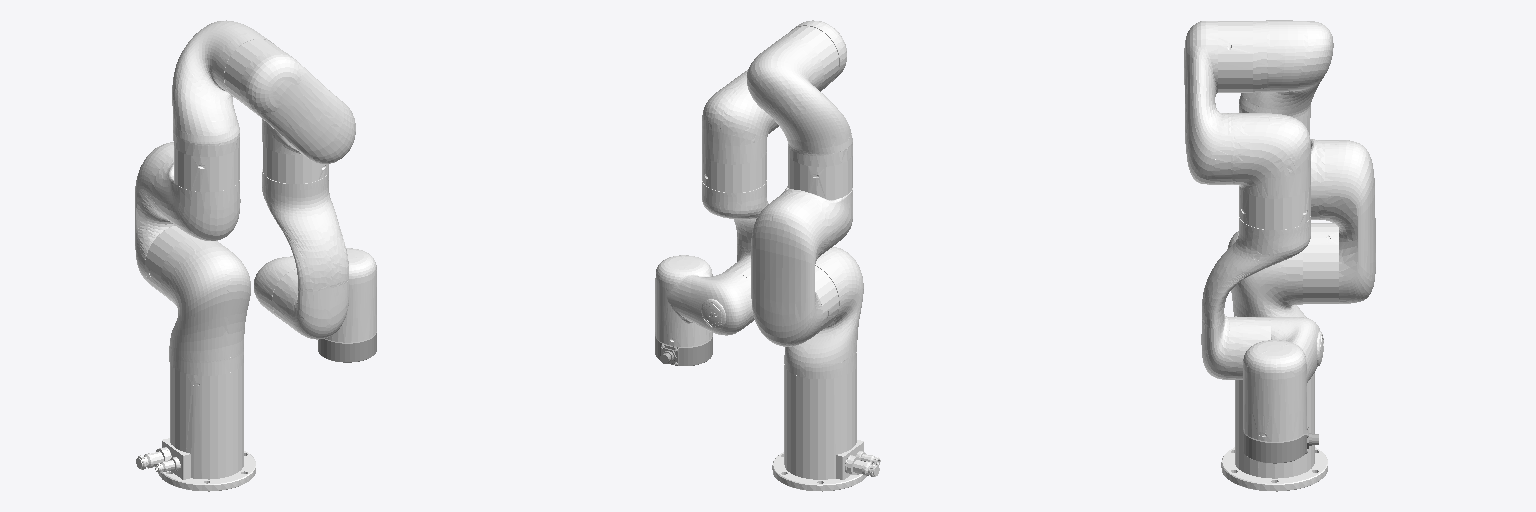
URDF robot description (UF_ROBOT):
<?xml version="1.0" ?>
<!-- =================================================================================== -->
<!-- |    This document was autogenerated by xacro from xarm_device.urdf.xacro         | -->
<!-- |    EDITING THIS FILE BY HAND IS NOT RECOMMENDED                                 | -->
<!-- =================================================================================== -->
<robot name="UF_ROBOT" xmlns:xacro="http://ros.org/wiki/xacro">
  <!-- Insert at the beginning of xarm_device_macro.xacro -->
  <material name="Black">
    <color rgba="0.0 0.0 0.0 1.0"/>
  </material>
  <material name="Red">
    <color rgba="0.8 0.0 0.0 1.0"/>
  </material>
  <material name="White">
    <color rgba="1.0 1.0 1.0 1.0"/>
  </material>
  <material name="Silver">
    <color rgba="0.753 0.753 0.753 1.0"/>
  </material>
  <link name="world"/>
  <joint name="world_joint" type="fixed">
    <parent link="world"/>
    <child link="link_base"/>
    <origin rpy="0 0 0" xyz="0 0 0"/>
  </joint>
  <link name="link_base">
    <inertial>
      <origin rpy="0 0 0" xyz="-0.021131 -0.0016302 0.056488"/>
      <mass value="0.88556"/>
      <inertia ixx="0.0030595" ixy="0.00012259" ixz="-0.00062705" iyy="0.0037783" iyz="0.00027023" izz="0.0020125"/>
    </inertial>
    <visual>
      <geometry>
        <mesh filename="xarm_description/meshes/xarm7/visual/link_base.stl"/>
      </geometry>
      <origin rpy="0 0 0" xyz="0 0 0"/>
      <material name="White"/>
    </visual>
    <collision>
      <geometry>
        <mesh filename="xarm_description/meshes/xarm7/collision/link_base.obj"/>
      </geometry>
      <origin rpy="0 0 0" xyz="0 0 0"/>
    </collision>
  </link>
  <link name="link1">
    <inertial>
      <origin rpy="0 0 0" xyz="-0.0002 0.02905 -0.01233"/>
      <mass value="2.382"/>
      <inertia ixx="0.0056905" ixy="-1.579e-05" ixz="5.125e-06" iyy="0.0049566" iyz="-0.000873378" izz="0.003316654"/>
    </inertial>
    <visual>
      <geometry>
        <mesh filename="xarm_description/meshes/xarm7/visual/link1.stl"/>
      </geometry>
      <origin rpy="0 0 0" xyz="0 0 0"/>
      <material name="White"/>
    </visual>
    <collision>
      <geometry>
        <mesh filename="xarm_description/meshes/xarm7/collision/link1.obj"/>
      </geometry>
      <origin rpy="0 0 0" xyz="0 0 0"/>
    </collision>
  </link>
  <joint name="joint1" type="revolute">
    <origin rpy="0 0 0" xyz="0 0 0.267"/>
    <parent link="link_base"/>
    <child link="link1"/>
    <axis xyz="0 0 1"/>
    <limit effort="50" lower="-6.28318530718" upper="6.28318530718" velocity="3.14"/>
    <dynamics damping="10" friction="1"/>
  </joint>
  <link name="link2">
    <inertial>
      <origin rpy="0 0 0" xyz="0.00022 -0.12856 0.01735"/>
      <mass value="1.869"/>
      <inertia ixx="0.0095989" ixy="1.541e-06" ixz="5.56e-06" iyy="0.00382472" iyz="-0.00317156" izz="0.007565669"/>
    </inertial>
    <visual>
      <geometry>
        <mesh filename="xarm_description/meshes/xarm7/visual/link2.stl"/>
      </geometry>
      <origin rpy="0 0 0" xyz="0 0 0"/>
      <material name="White"/>
    </visual>
    <collision>
      <geometry>
        <mesh filename="xarm_description/meshes/xarm7/collision/link2.obj"/>
      </geometry>
      <origin rpy="0 0 0" xyz="0 0 0"/>
    </collision>
  </link>
  <joint name="joint2" type="revolute">
    <origin rpy="-1.5708 0 0" xyz="0 0 0"/>
    <parent link="link1"/>
    <child link="link2"/>
    <axis xyz="0 0 1"/>
    <limit effort="50" lower="-2.059" upper="2.0944" velocity="3.14"/>
    <dynamics damping="10" friction="1"/>
  </joint>
  <link name="link3">
    <inertial>
      <origin rpy="0 0 0" xyz="0.0466 -0.02463 -0.00768"/>
      <mass value="1.6383"/>
      <inertia ixx="0.00310955" ixy="0.00030837" ixz="-0.00058453" iyy="0.00264483" iyz="0.000338893" izz="0.0026624"/>
    </inertial>
    <visual>
      <geometry>
        <mesh filename="xarm_description/meshes/xarm7/visual/link3.stl"/>
      </geometry>
      <origin rpy="0 0 0" xyz="0 0 0"/>
      <material name="White"/>
    </visual>
    <collision>
      <geometry>
        <mesh filename="xarm_description/meshes/xarm7/collision/link3.obj"/>
      </geometry>
      <origin rpy="0 0 0" xyz="0 0 0"/>
    </collision>
  </link>
  <joint name="joint3" type="revolute">
    <origin rpy="1.5708 0 0" xyz="0 -0.293 0"/>
    <parent link="link2"/>
    <child link="link3"/>
    <axis xyz="0 0 1"/>
    <limit effort="30" lower="-6.28318530718" upper="6.28318530718" velocity="3.14"/>
    <dynamics damping="5" friction="1"/>
  </joint>
  <link name="link4">
    <inertial>
      <origin rpy="0 0 0" xyz="0.07047 -0.11575 0.012"/>
      <mass value="1.7269"/>
      <inertia ixx="0.005889" ixy="0.00137112" ixz="0.00088143" iyy="0.00359703" iyz="-0.001762155" izz="0.00543244"/>
    </inertial>
    <visual>
      <geometry>
        <mesh filename="xarm_description/meshes/xarm7/visual/link4.stl"/>
      </geometry>
      <origin rpy="0 0 0" xyz="0 0 0"/>
      <material name="White"/>
    </visual>
    <collision>
      <geometry>
        <mesh filename="xarm_description/meshes/xarm7/collision/link4.obj"/>
      </geometry>
      <origin rpy="0 0 0" xyz="0 0 0"/>
    </collision>
  </link>
  <joint name="joint4" type="revolute">
    <origin rpy="1.5708 0 0" xyz="0.0525 0 0"/>
    <parent link="link3"/>
    <child link="link4"/>
    <axis xyz="0 0 1"/>
    <limit effort="30" lower="-0.19198" upper="3.927" velocity="3.14"/>
    <dynamics damping="5" friction="1"/>
  </joint>
  <link name="link5">
    <inertial>
      <origin rpy="0 0 0" xyz="-0.00032 0.01604 -0.026"/>
      <mass value="1.3203"/>
      <inertia ixx="0.00534665" ixy="1.5117e-05" ixz="-3.69e-07" iyy="0.0049779" iyz="-0.00022132" izz="0.0013624"/>
    </inertial>
    <visual>
      <geometry>
        <mesh filename="xarm_description/meshes/xarm7/visual/link5.stl"/>
      </geometry>
      <origin rpy="0 0 0" xyz="0 0 0"/>
      <material name="White"/>
    </visual>
    <collision>
      <geometry>
        <mesh filename="xarm_description/meshes/xarm7/collision/link5.obj"/>
      </geometry>
      <origin rpy="0 0 0" xyz="0 0 0"/>
    </collision>
  </link>
  <joint name="joint5" type="revolute">
    <origin rpy="1.5708 0 0" xyz="0.0775 -0.3425 0"/>
    <parent link="link4"/>
    <child link="link5"/>
    <axis xyz="0 0 1"/>
    <limit effort="30" lower="-6.28318530718" upper="6.28318530718" velocity="3.14"/>
    <dynamics damping="5" friction="1"/>
  </joint>
  <link name="link6">
    <inertial>
      <origin rpy="0 0 0" xyz="0.06469 0.03278 0.02141"/>
      <mass value="1.325"/>
      <inertia ixx="0.0014745" ixy="-0.000488" ixz="0.0002953" iyy="0.0019037" iyz="0.00014749" izz="0.0023652"/>
    </inertial>
    <visual>
      <geometry>
        <mesh filename="xarm_description/meshes/xarm7/visual/link6.stl"/>
      </geometry>
      <origin rpy="0 0 0" xyz="0 0 0"/>
      <material name="White"/>
    </visual>
    <collision>
      <geometry>
        <mesh filename="xarm_description/meshes/xarm7/collision/link6.obj"/>
      </geometry>
      <origin rpy="0 0 0" xyz="0 0 0"/>
    </collision>
  </link>
  <joint name="joint6" type="revolute">
    <origin rpy="1.5708 0 0" xyz="0 0 0"/>
    <parent link="link5"/>
    <child link="link6"/>
    <axis xyz="0 0 1"/>
    <limit effort="20" lower="-1.69297" upper="3.14159265359" velocity="3.14"/>
    <dynamics damping="2" friction="1"/>
  </joint>
  <link name="link7">
    <inertial>
      <origin rpy="0 0 0" xyz="0 -0.00677 -0.01098"/>
      <mass value="0.17"/>
      <inertia ixx="9.3e-05" ixy="-0.0" ixz="-0.0" iyy="5.87e-05" iyz="-3.6e-06" izz="0.000132"/>
    </inertial>
    <visual>
      <geometry>
        <mesh filename="xarm_description/meshes/xarm7/visual/link7.stl"/>
      </geometry>
      <origin rpy="0 0 0" xyz="0 0 0"/>
      <material name="Silver"/>
    </visual>
    <collision>
      <geometry>
        <mesh filename="xarm_description/meshes/xarm7/collision/link7.obj"/>
      </geometry>
      <origin rpy="0 0 0" xyz="0 0 0"/>
    </collision>
  </link>
  <joint name="joint7" type="revolute">
    <origin rpy="-1.5708 0 0" xyz="0.076 0.097 0"/><!-- 0.076 0.097 0 -->
    <parent link="link6"/>
    <child link="link7"/>
    <axis xyz="0 0 1"/>
    <limit effort="20" lower="-6.28318530718" upper="6.28318530718" velocity="3.14"/>
    <dynamics damping="2" friction="1"/>
  </joint>
  <!-- <link name="${prefix}link_eef" />
    <joint name="${prefix}joint_eef" type="fixed">
      <origin xyz="0 0 0" rpy="0 0 0" />
      <parent link="${prefix}link7" />
      <child link="${prefix}link_eef" />
    </joint> -->
  <link name="link_eef"/>
  <!-- 8 -->
  <joint name="joint_eef" type="fixed">
    <origin rpy="0 0 0" xyz="0 0 0"/>
    <parent link="link7"/>
    <child link="link_eef"/>
  </joint>
  <!-- 9 -->
  <joint name="gripper_fix" type="fixed">
    <parent link="link_eef"/>
    <child link="pusher_base_link"/>
    <origin rpy="0 0 0" xyz="0 0 0.015"/>
  </joint>
  <link name="pusher_base_link">
    <inertial>
      <origin rpy="0 0 0" xyz="-0.00065489 -0.0018497 0.048028"/>
      <mass value="0.54156"/>
      <inertia ixx="0.00047106" ixy="3.9292E-07" ixz="2.6537E-06" iyy="0.00033072" iyz="-1.0975E-05" izz="0.00025642"/>
    </inertial>
    <visual>
      <geometry>
        <mesh filename="xarm_pusher/meshes/pusher_20cm.stl"/>
      </geometry>
      <origin rpy="0 0 0" xyz="0 0 0"/>
      <material name="White"/>
    </visual>
    <collision>
      <geometry>
        <mesh filename="xarm_pusher/meshes/pusher_20cm.stl"/>
      </geometry>
      <origin rpy="0 0 0" xyz="0 0 0"/>
    </collision>
  </link>
  <!-- benchmark TCP (r2s_bench_dev, 2026-09-12): the pusher rod tip = link7 + 0.015 (pusher mount) + 0.200 (rod) along +z -->
  <link name="link_tcp"/>
  <joint name="joint_tcp" type="fixed">
    <origin rpy="0 0 0" xyz="0 0 0.215"/>
    <parent link="link7"/>
    <child link="link_tcp"/>
  </joint>
</robot>

--- What the picture shows (computed from the rendered views, not written in the file) ---
The picture shows the robot from 3 angles, left to right: view 1: azimuth 30°, elevation 25°; view 2: azimuth 150°, elevation 25°; view 3: azimuth 270°, elevation 25°; orthographic projection.
Robot: UF_ROBOT — 12 links, 11 joints (7 revolute, 4 fixed); root link world; default pose: all joints at 0.
Visible links, largest first — view 1: link1, link4, link5, link_base, link3, link2, link6, link7; view 2: link2, link3, link_base, link4, link6, link1, link5, link7; view 3: link4, link3, link2, link6, link5, link1, link_base, link7.
Link boxes in pixels (x1,y1,x2,y2): link1: (145,226,250,375); link4: (240,50,355,183); link5: (262,169,348,339); link_base: (136,363,255,491); link3: (172,20,283,156); link2: (135,142,240,286); link6: (254,248,376,342); link7: (318,332,376,362); link2: (751,155,852,346); link3: (747,26,852,166); link_base: (772,364,880,491); link4: (702,20,846,192); link6: (655,255,754,346); link1: (784,247,863,378); link5: (702,180,768,280); link7: (655,336,712,365); link4: (1184,21,1310,229); link3: (1218,20,1333,123); link2: (1304,120,1375,303); link6: (1243,317,1323,441); link5: (1201,216,1310,379); link1: (1227,223,1338,317); link_base: (1221,373,1327,491); link7: (1243,426,1318,463).
Bounding box of the posed robot: 0.3358 × 0.2259 × 0.6028 m (x, y, z).
8 mesh visuals loaded from 9 distinct referenced files (8 binary STL); not drawn: 1 (reference not matched to a file when rendering).
